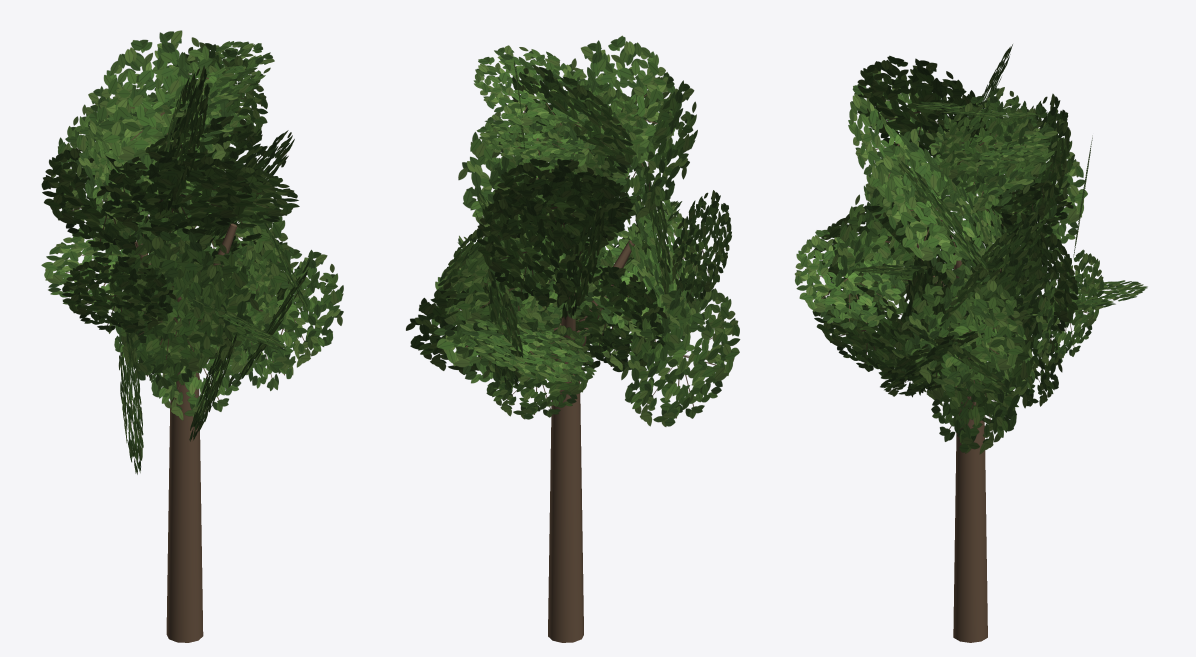
File: cono.glb
3 views of the same model, side by side, from view 1: azimuth 30°, elevation 25°; view 2: azimuth 150°, elevation 25°; view 3: azimuth 270°, elevation 25° (orthographic).
Parts seen in each view (by area): view 1: cono; view 2: cono; view 3: cono.
Part boxes in pixels (box(x1,y1,x2,y2)): cono: box(41, 30, 343, 642); cono: box(406, 35, 740, 642); cono: box(794, 44, 1147, 642).
Size of the model in its own units: 3.52 by 6.39 by 4.03.
Materials: 2 (1 with a texture image).
